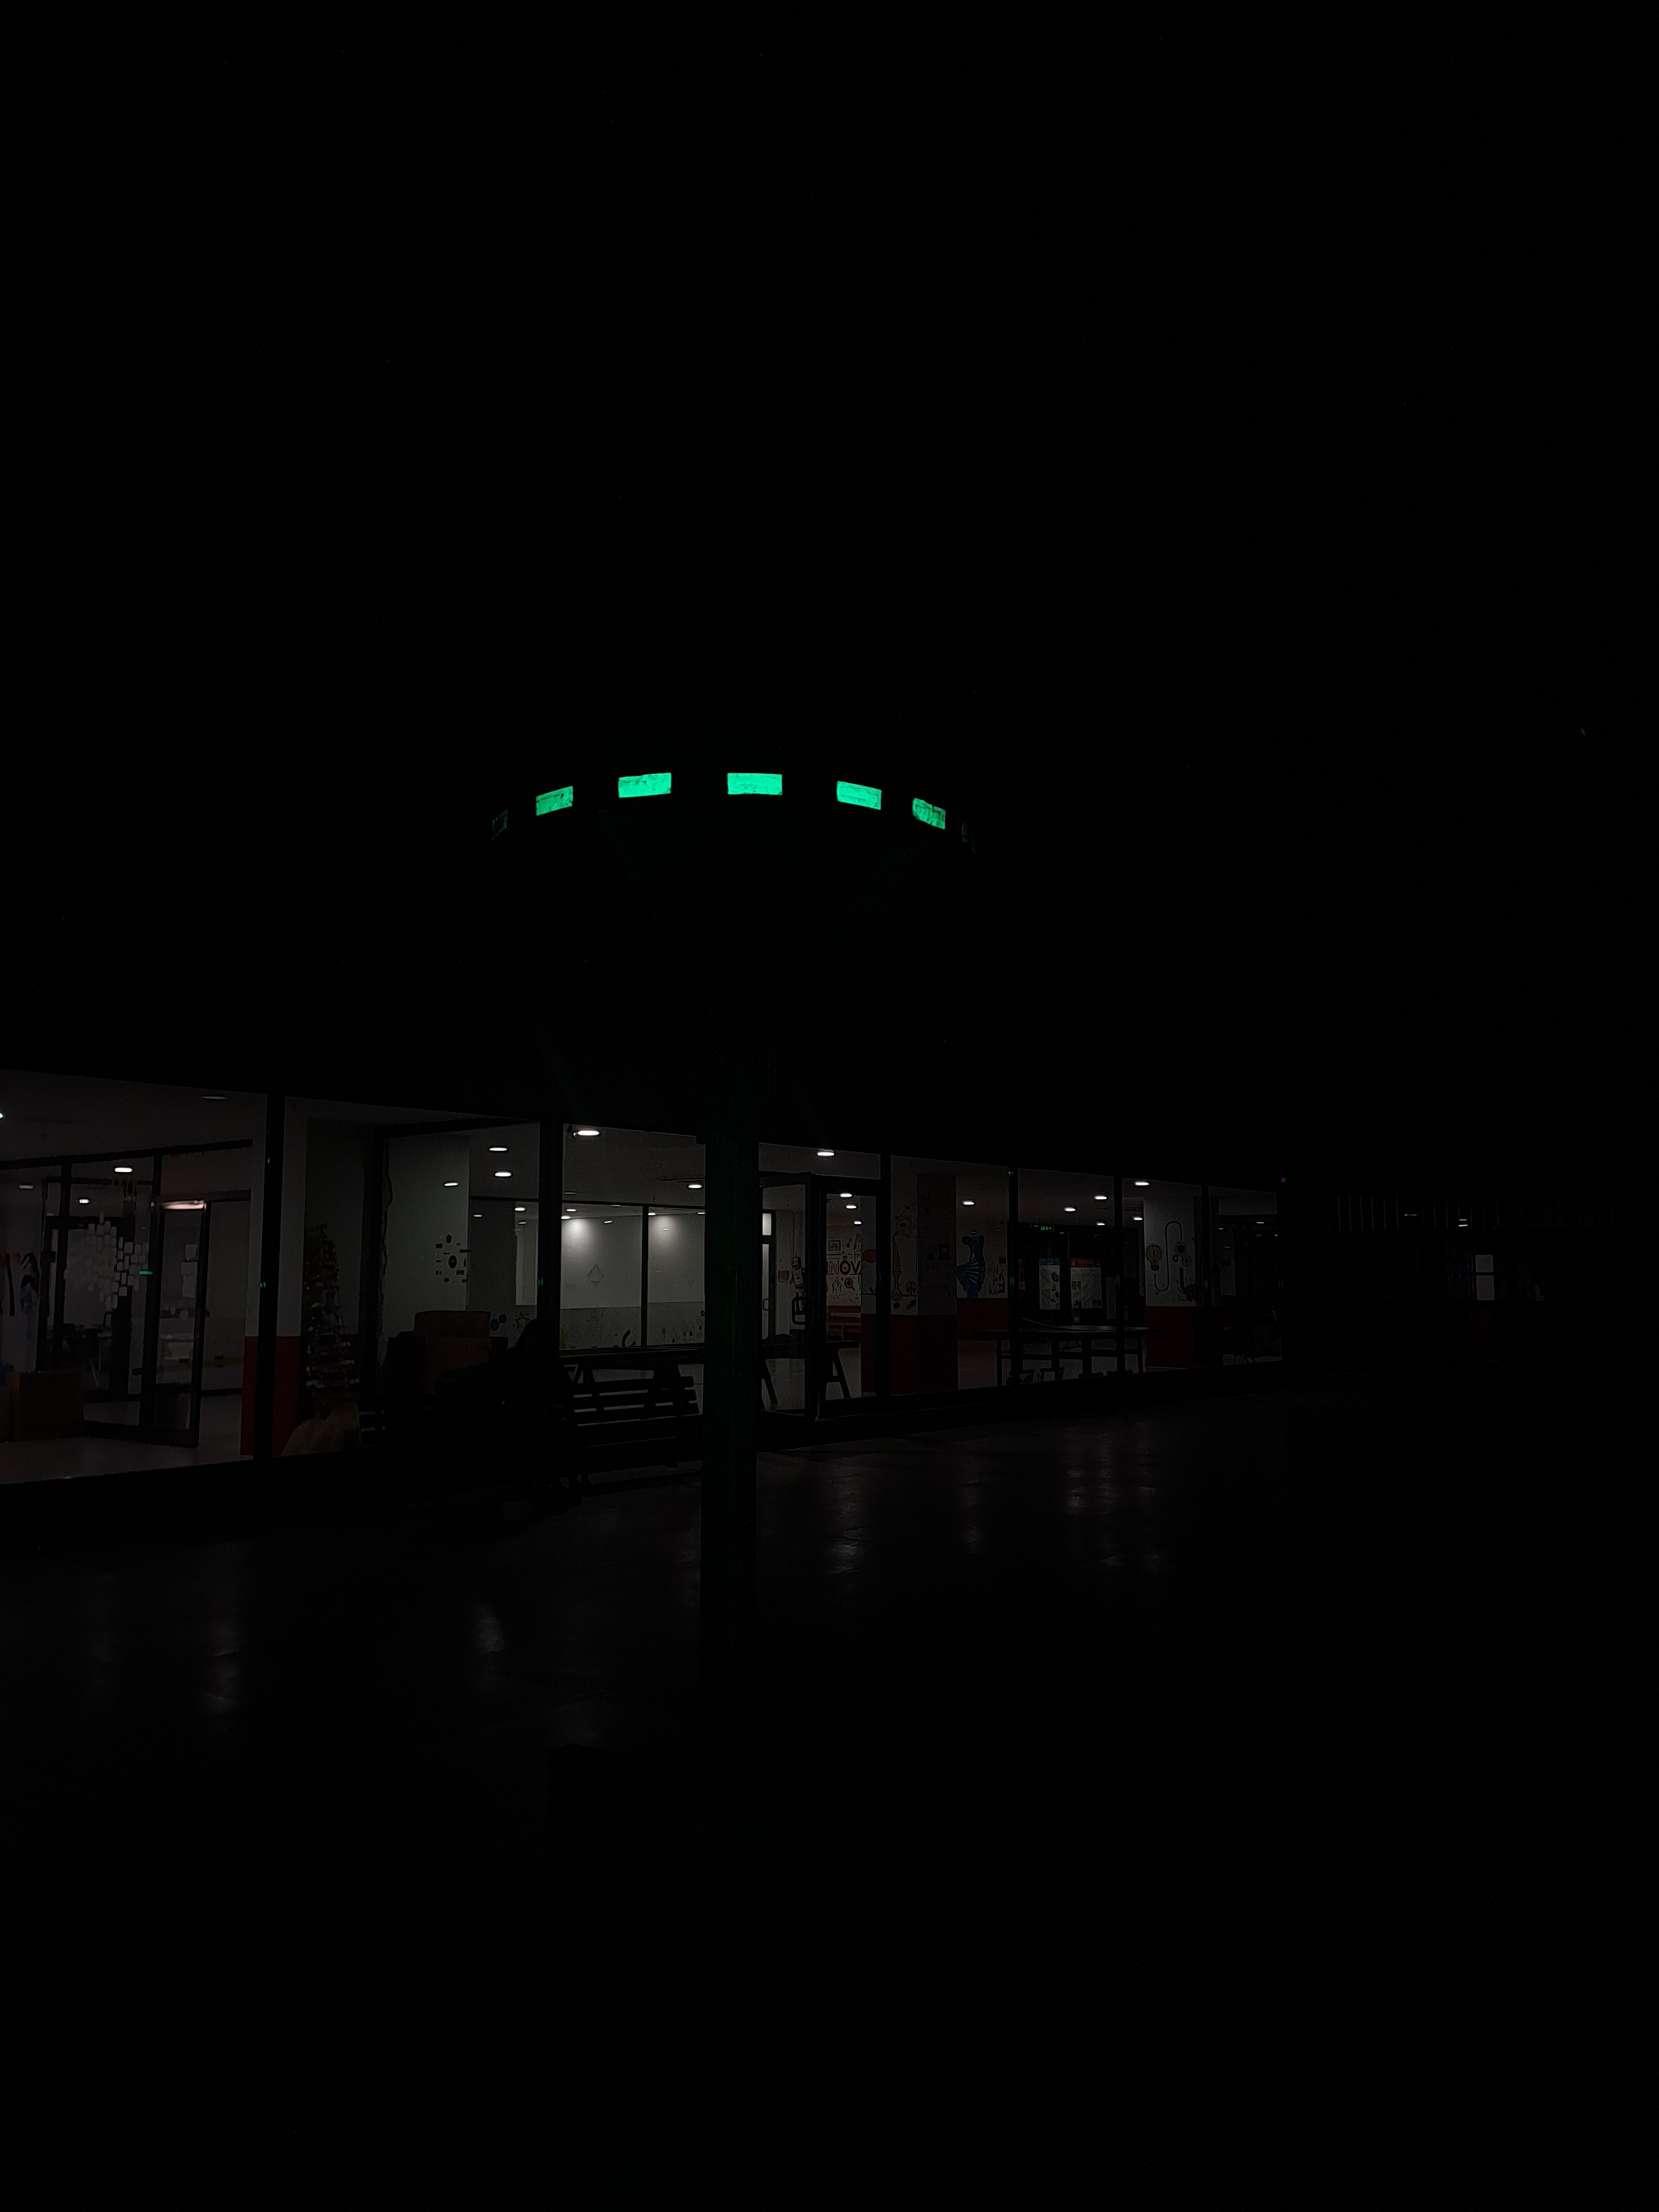hoop: (530, 766, 950, 840)
